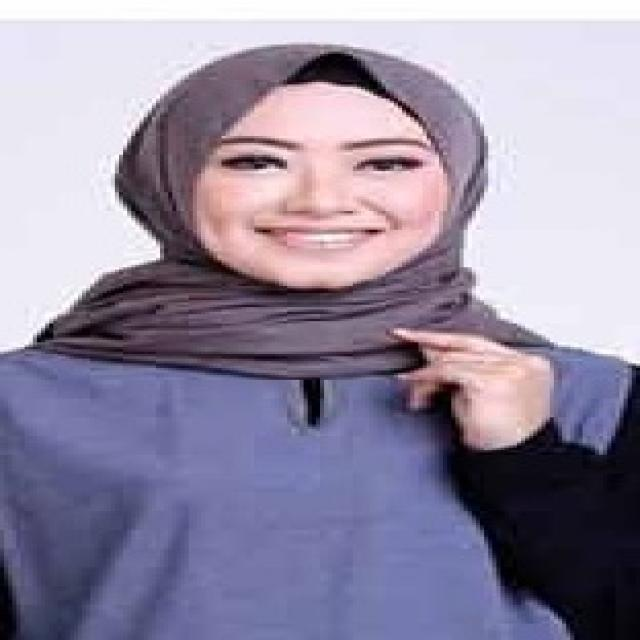head: (98, 36, 566, 303)
